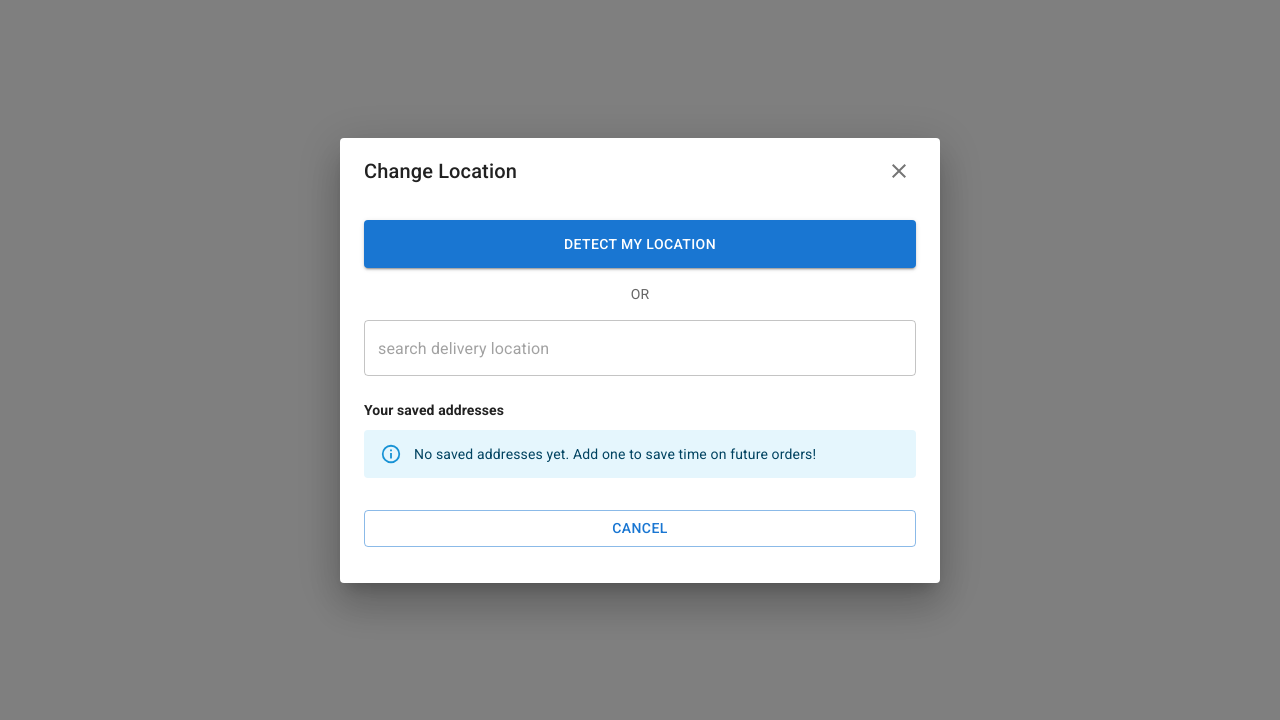
LocationModal Component › Geolocation detection › shows detecting state when location detection starts
Click the button "Detect my location". click: coordinates (640, 244)
box: [364,220,916,268]
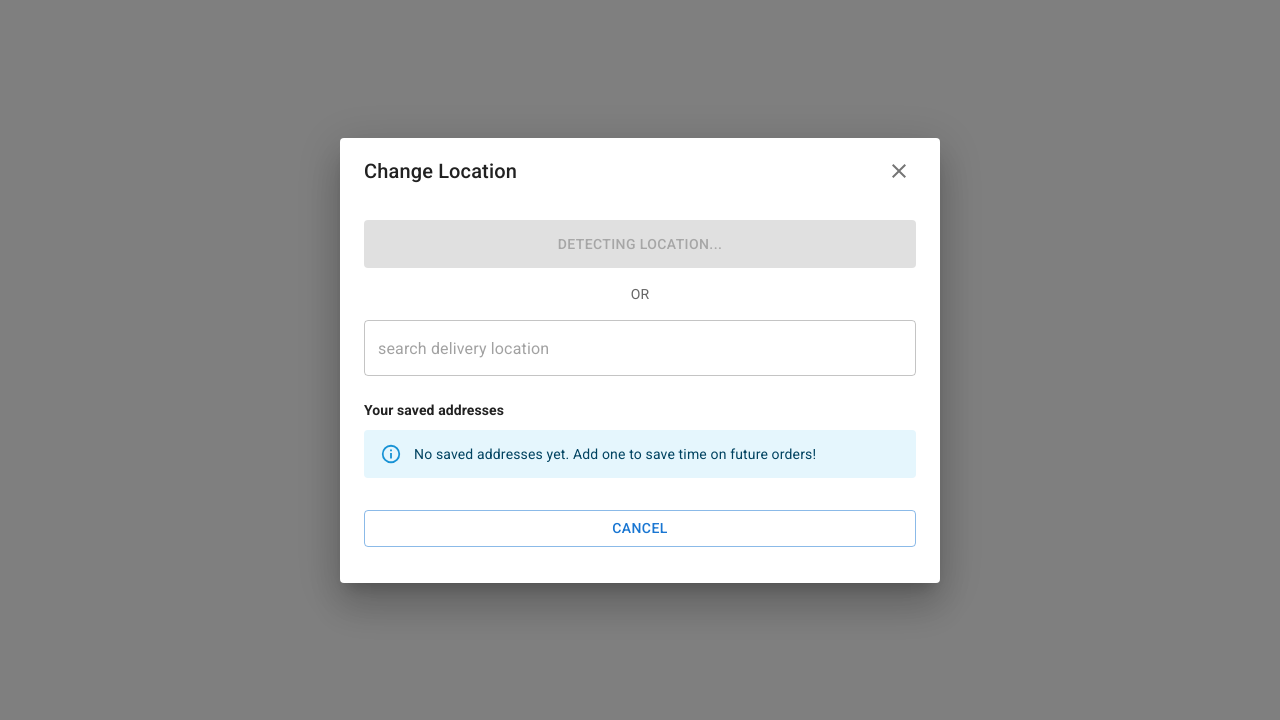
Expected: the button "Detecting location..." is shown, [364,220,916,268]
